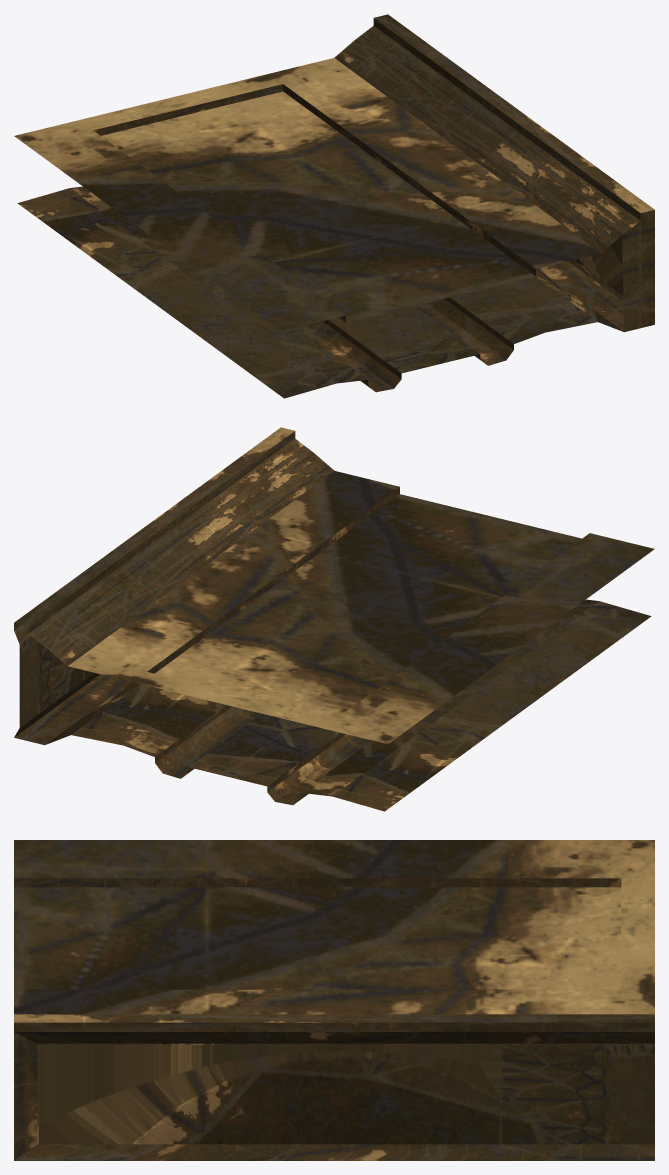
File: platformPrefab-HalfNoBackTrimLeft.fbx
3 views of the same model, one above another, from view 1: azimuth 30°, elevation 25°; view 2: azimuth 150°, elevation 25°; view 3: azimuth 270°, elevation 25° (orthographic). The views are drawn at different scales.
Parts seen in each view (by area): view 1: platformPrefabStraight; view 2: platformPrefabStraight; view 3: platformPrefabStraight.
Part boxes in pixels (x1,y1,x2,y2): platformPrefabStraight: [14, 14, 654, 398]; platformPrefabStraight: [14, 427, 654, 811]; platformPrefabStraight: [14, 840, 654, 1160].
Bounding box in the file's own units: 162 × 47.89 × 201.
